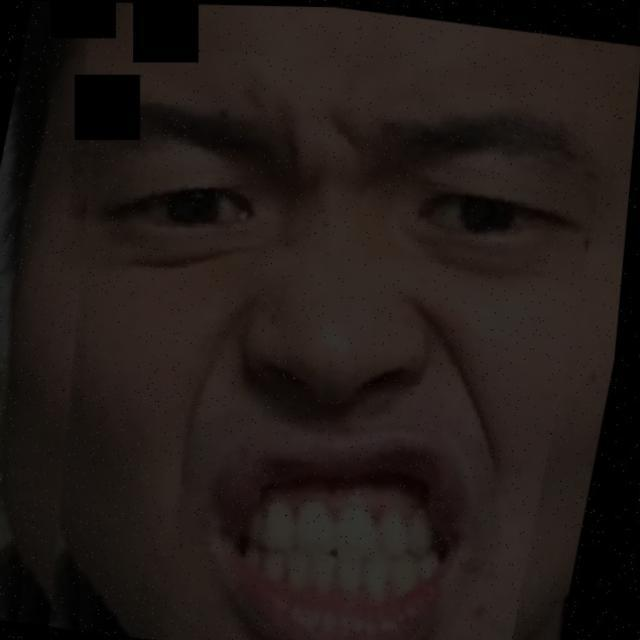Angry: (57, 31, 639, 640)
